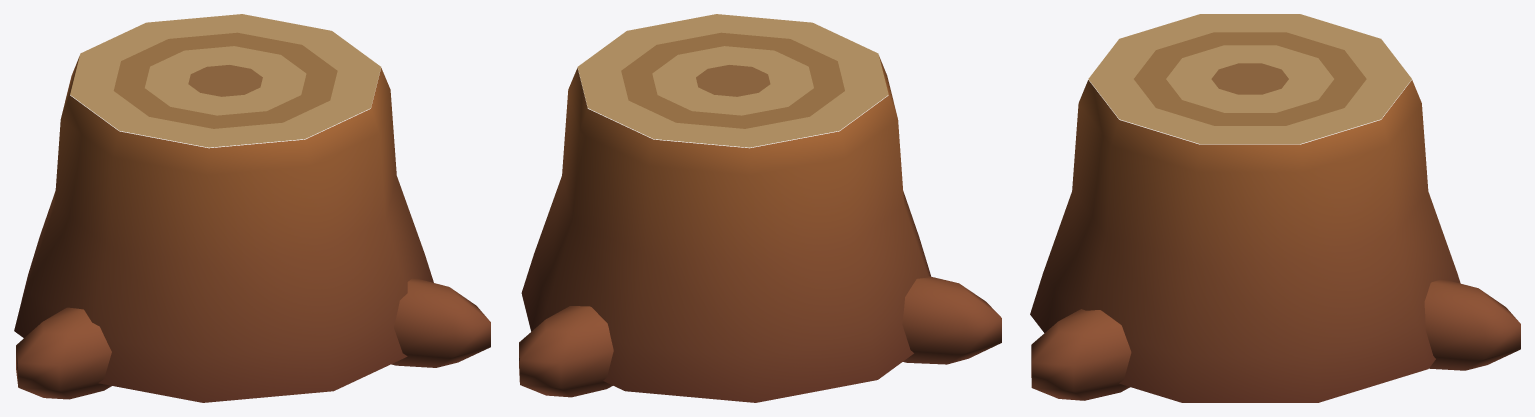
The model's file is stump.glb.
The picture shows the model from 3 angles, left to right: view 1: azimuth 30°, elevation 25°; view 2: azimuth 150°, elevation 25°; view 3: azimuth 270°, elevation 25°; orthographic projection.
Visible parts, largest first — view 1: stump; view 2: stump; view 3: stump.
Part boxes in pixels (x1,y1,x2,y2): stump: (14,14,490,402); stump: (519,14,1001,402); stump: (1030,14,1520,402).
Size of the model in its own units: 1.51 by 0.8819 by 1.52.
